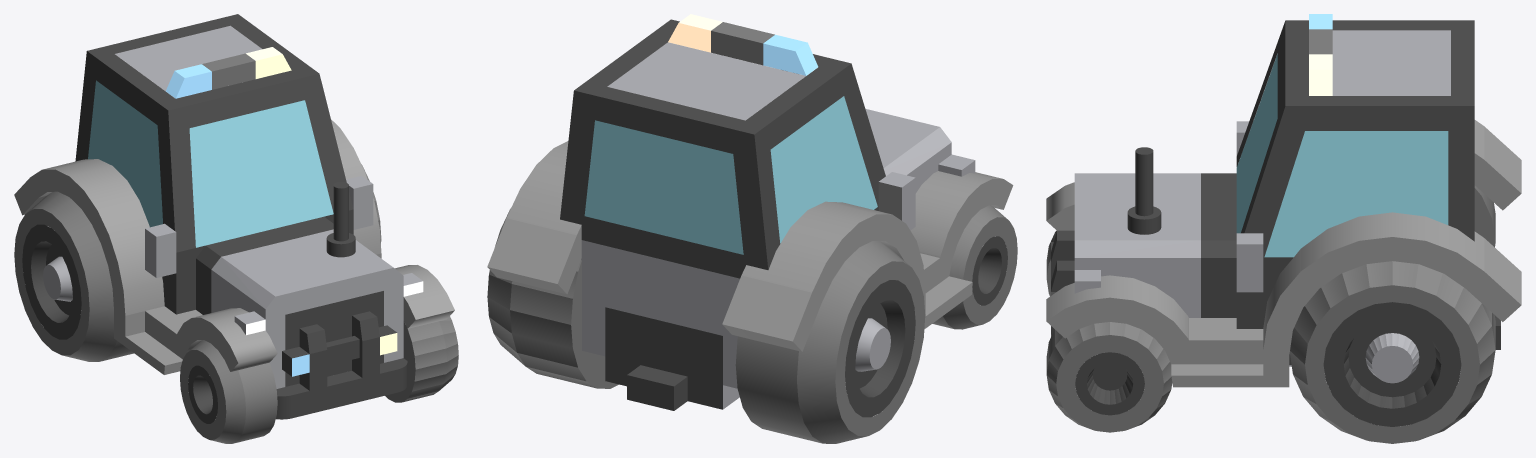
3 views of the same model, side by side, from view 1: azimuth 30°, elevation 25°; view 2: azimuth 150°, elevation 25°; view 3: azimuth 270°, elevation 25° (orthographic). The views are drawn at different scales.
Parts seen in each view (by area): view 1: body, skirts, wheel_backRight, grill, wheel_frontRight, wheel_frontLeft; view 2: body, skirts, wheel_backRight, wheel_backLeft, wheel_frontRight; view 3: body, skirts, wheel_backLeft, wheel_frontLeft, grill, wheel_backRight.
Part boxes in pixels (left/top/right/bottom): body: left=75, top=14, right=423, bottom=388; skirts: left=14, top=119, right=454, bottom=374; wheel_backRight: left=14, top=191, right=133, bottom=361; grill: left=276, top=311, right=407, bottom=419; wheel_frontRight: left=180, top=340, right=277, bottom=443; wheel_frontLeft: left=385, top=316, right=458, bottom=402; body: left=560, top=14, right=975, bottom=410; skirts: left=487, top=141, right=1013, bottom=351; wheel_backRight: left=735, top=241, right=925, bottom=443; wheel_backLeft: left=487, top=208, right=618, bottom=388; wheel_frontRight: left=932, top=205, right=1017, bottom=329; body: left=1074, top=14, right=1500, bottom=366; skirts: left=1046, top=120, right=1521, bottom=387; wheel_backLeft: left=1289, top=261, right=1495, bottom=443; wheel_frontLeft: left=1046, top=322, right=1172, bottom=432; grill: left=1051, top=230, right=1074, bottom=336; wheel_backRight: left=1474, top=185, right=1495, bottom=247.
Bounding box in the file's own units: 1.66 × 1.56 × 2.02.
